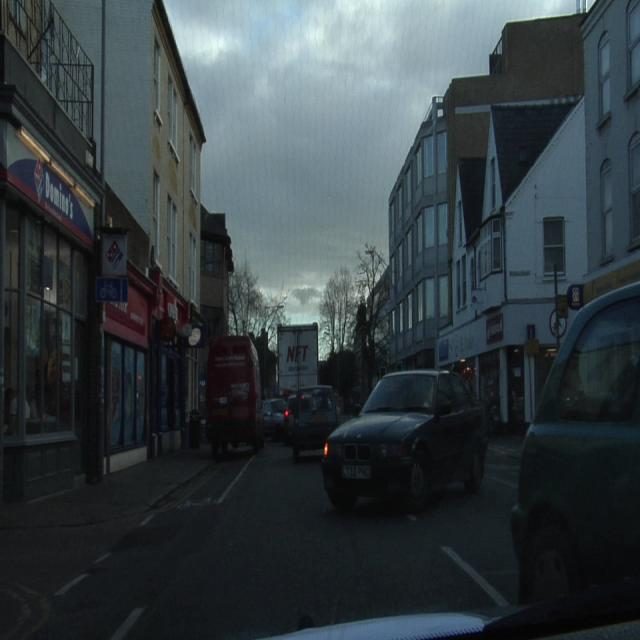Building: (2, 1, 230, 504), (385, 8, 639, 428)
Car: (513, 303, 639, 596), (323, 372, 487, 509), (289, 386, 339, 460), (262, 399, 287, 440)
Road: (4, 444, 518, 637)
Tree: (319, 245, 389, 412), (230, 258, 286, 349)
Truck_Bus: (206, 336, 260, 455), (278, 323, 318, 395)
